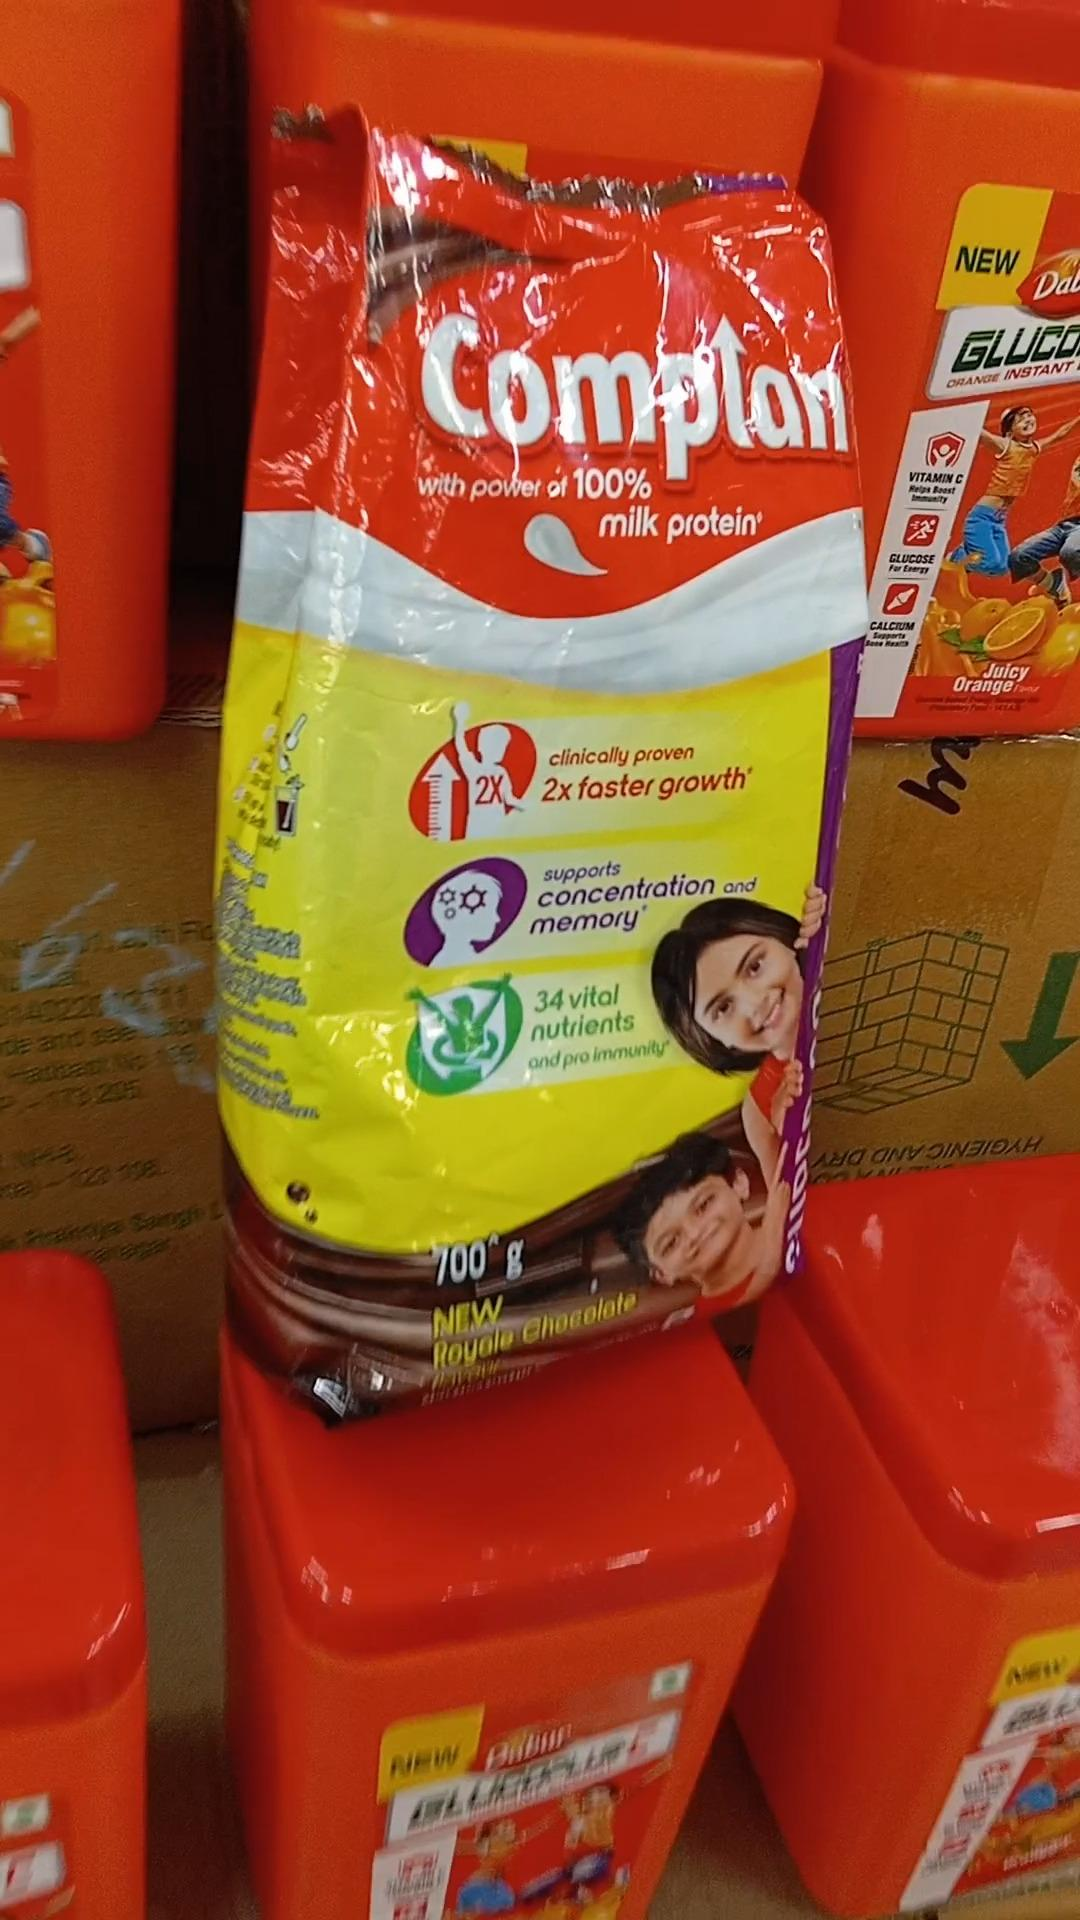COMPLAN_RC_POUCH_700_GMS_12: (277, 125, 814, 1342)
